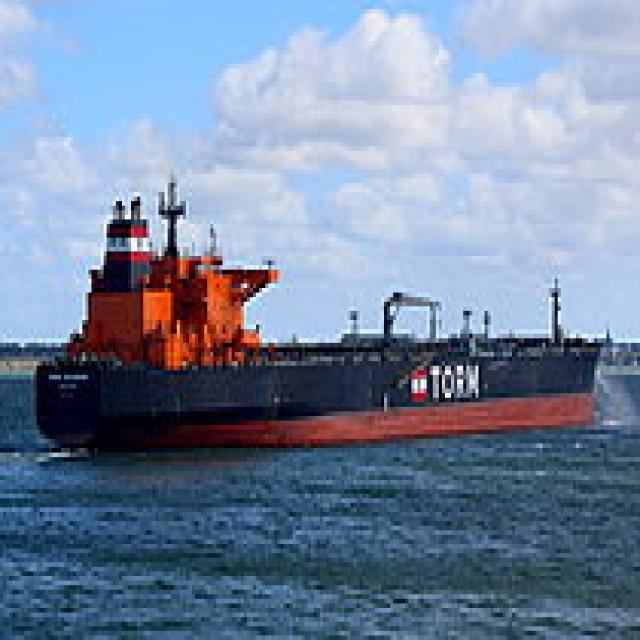Tanker: (30, 169, 598, 444)
